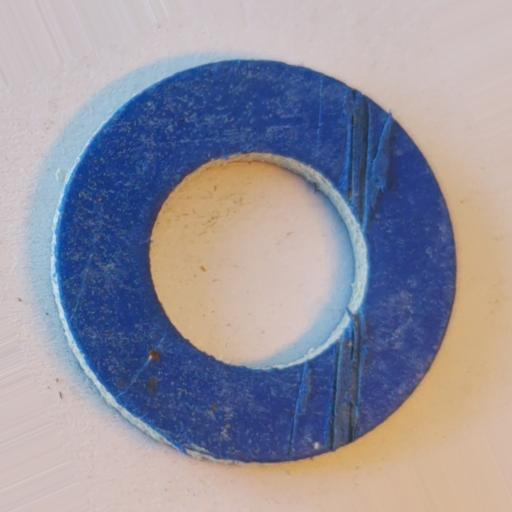defect: (329, 306, 364, 450), (365, 98, 398, 219), (345, 89, 371, 221), (286, 362, 309, 462)
